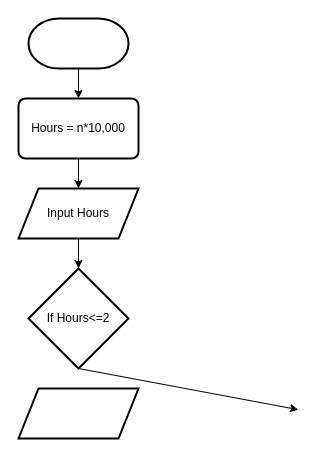
The diagram is 324 pixels wide and 456 high, and some of its shapes have lost their labels. The shapes that lost their labels are listed below. From the top down, each one's centre as x and y in pixels, then its label:
the point at 78,43: Car Enters
the point at 78,413: Charge Rp10,000
